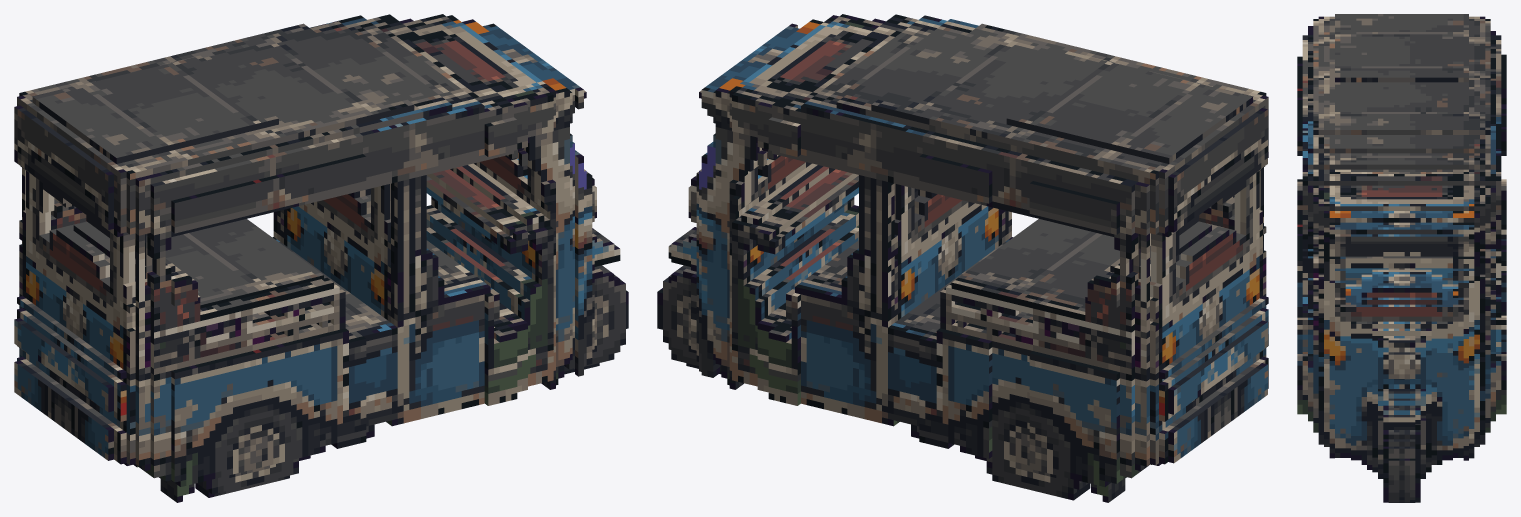
Rendered from city_tuktuk.glb.
3 renders of one model, left to right at view 1: azimuth 30°, elevation 25°; view 2: azimuth 150°, elevation 25°; view 3: azimuth 270°, elevation 25°, orthographic. The views are drawn at different scales.
Parts seen in each view (by area): view 1: city_tuktuk; view 2: city_tuktuk; view 3: city_tuktuk.
Part boxes in pixels (bbox=[...]): city_tuktuk: bbox=[14, 14, 628, 502]; city_tuktuk: bbox=[657, 14, 1268, 502]; city_tuktuk: bbox=[1297, 14, 1506, 502].
Bounding box in the file's own units: 3 × 1.84 × 1.22.
